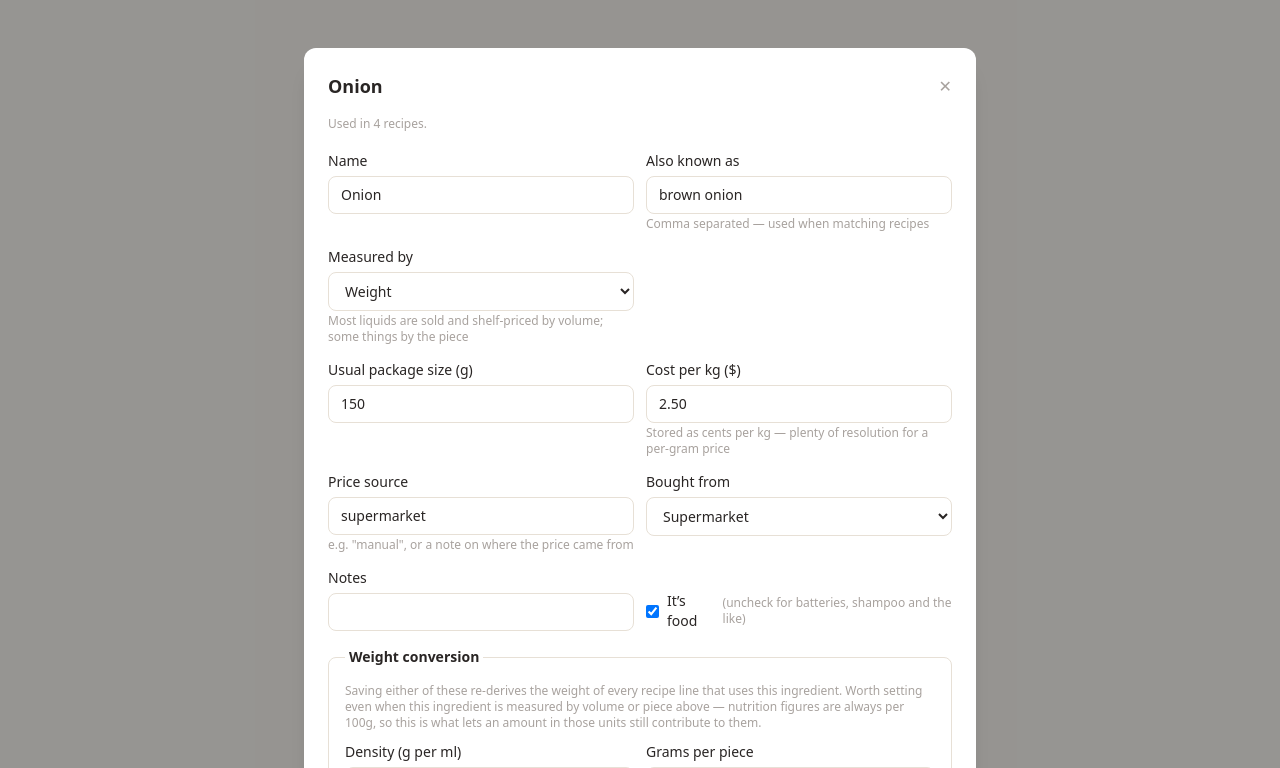
Scenario: IngredientEditor › shows weight fields by default and switches to volume fields
The image size is (1280, 768).
Expected: the text "Usual package size (g)" is shown, [328,360,473,379]
Expected: the text "Usual package size (mL)" is not shown
Select "Volume (liquids)" in the dropdown showing "Weight": (481, 292) [328,272,634,311]
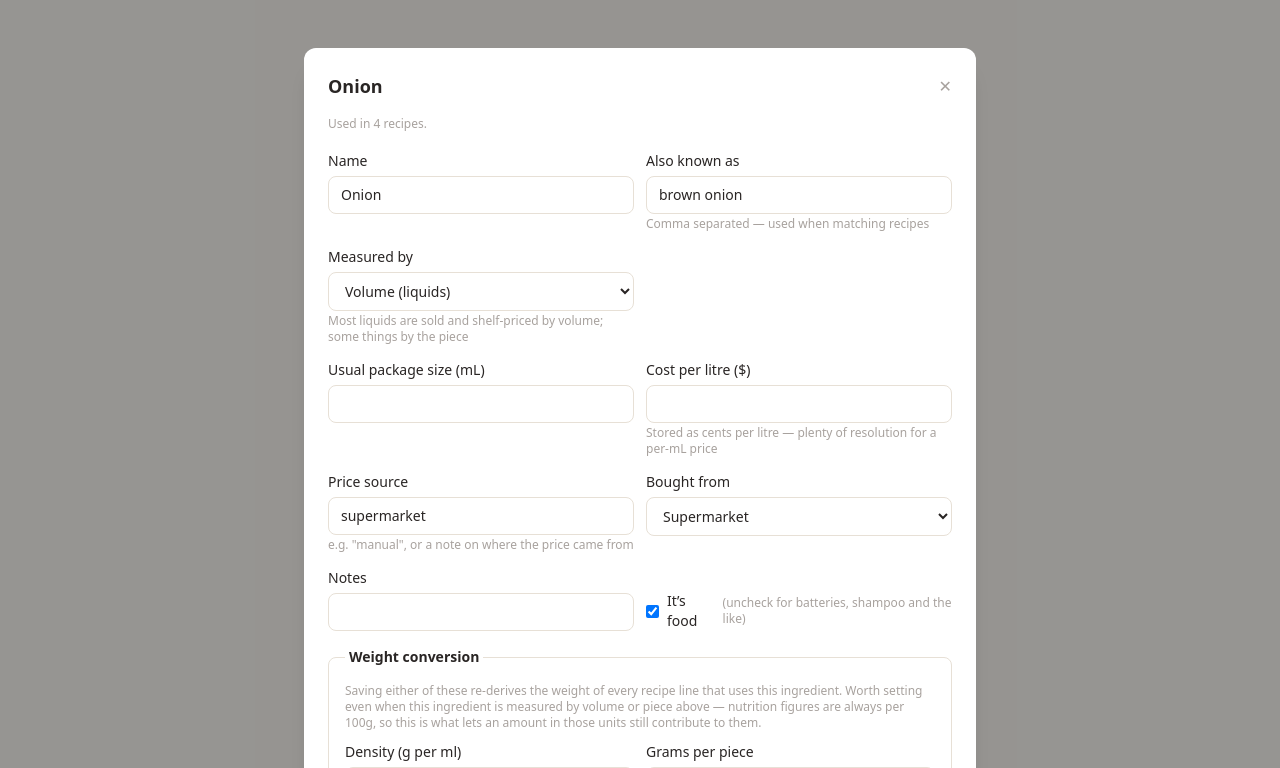
Expected: the text "Usual package size (mL)" is shown, [328,360,485,379]
Expected: the text "Usual package size (g)" is gone
